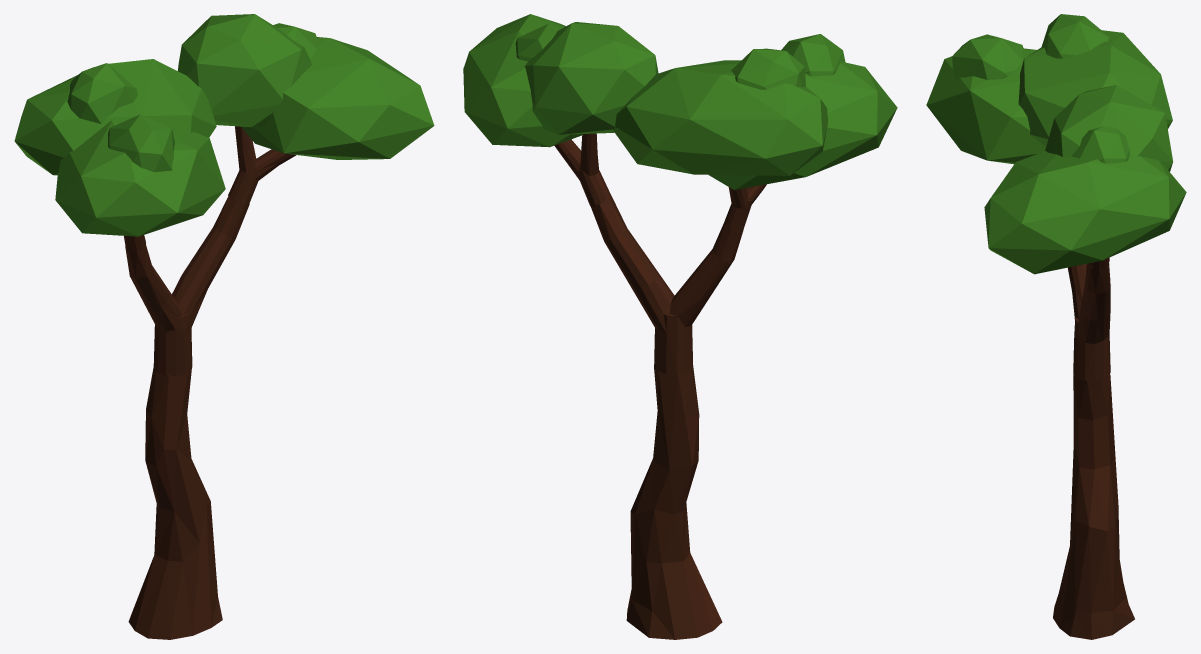
File: GR_Tree_Broad_LOD1.fbx
The picture shows the model from 3 angles, left to right: view 1: azimuth 30°, elevation 25°; view 2: azimuth 150°, elevation 25°; view 3: azimuth 270°, elevation 25°; orthographic projection. The views are drawn at different scales.
Visible parts, largest first — view 1: GR_Tree_Broad_LOD1; view 2: GR_Tree_Broad_LOD1; view 3: GR_Tree_Broad_LOD1.
Part boxes in pixels (left/top/right/bottom): GR_Tree_Broad_LOD1: left=14, top=14, right=434, bottom=639; GR_Tree_Broad_LOD1: left=463, top=14, right=897, bottom=639; GR_Tree_Broad_LOD1: left=926, top=14, right=1186, bottom=639.
Size of the model in its own units: 3.13 by 4.58 by 1.92.
2 materials, 2 textured.
